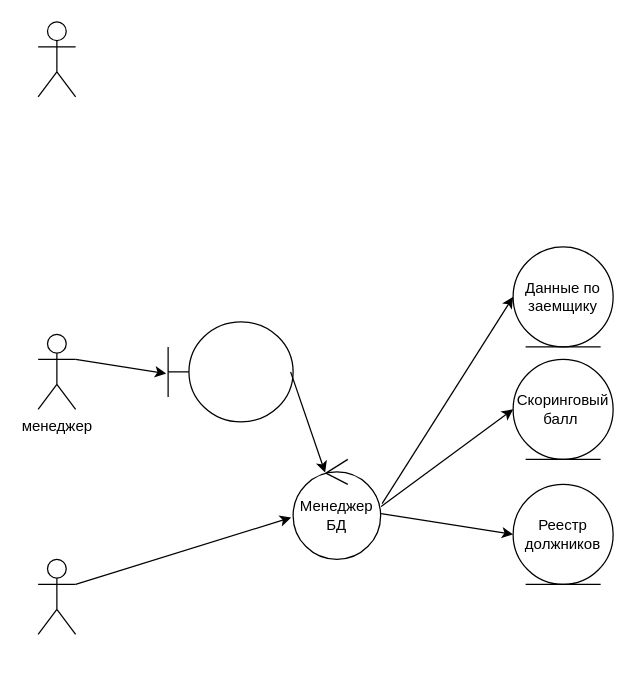
The diagram is 635 pixels wide and 683 high, and some of its shapes have lost their labels. The shapes that lost their labels are listed below. From the top down, each one's centre as x and y in pixels, then its label:
At point 56,59: "заемщик".
At point 230,371: "Интерфейс ИС для банковского дела".
At point 56,596: "Банк".
